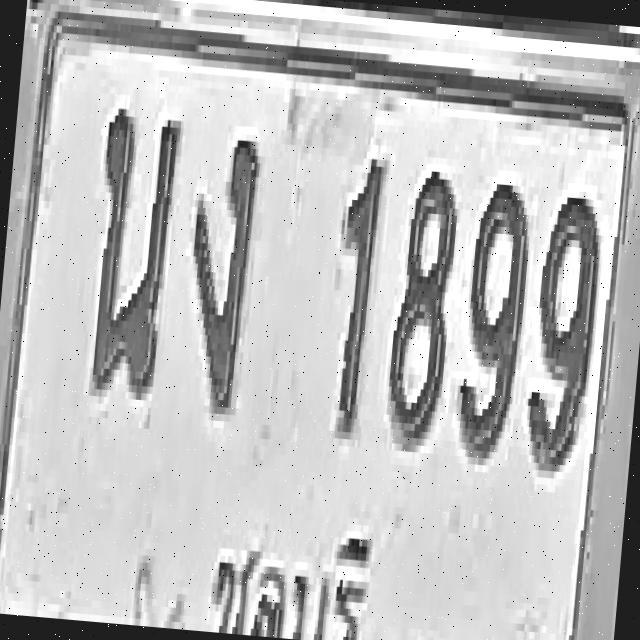1: (324, 146, 386, 437)
16NgorNgu: (177, 126, 262, 412)
34NorNu: (83, 100, 182, 402)
8: (381, 162, 461, 446)
9: (523, 185, 605, 470), (453, 172, 533, 456)
Chonburi: (197, 490, 386, 640)
